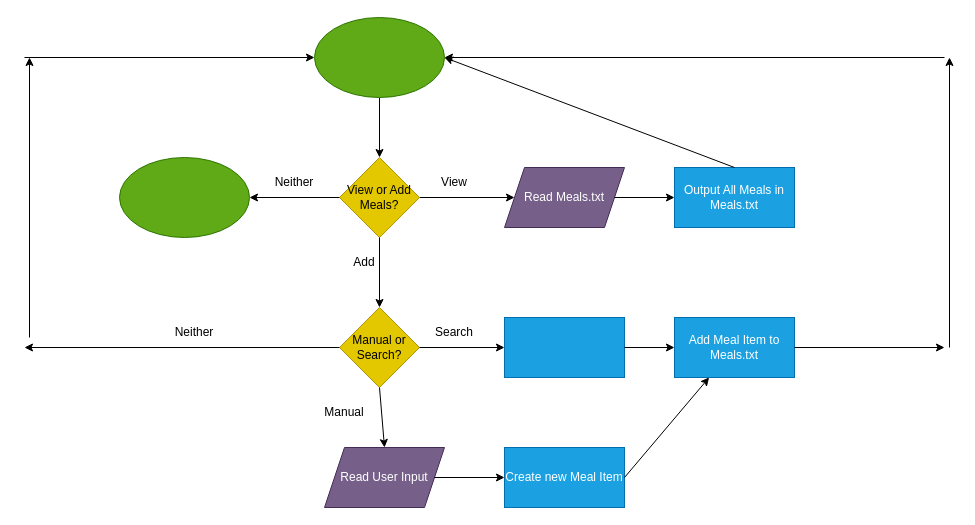
The diagram is 975 pixels wide and 525 high, and some of its shapes have lost their labels. Here are the shapes that lost their labels. From the top down, the centre of each, then its label:
At (379,57): "Start".
At (184,197): "End".
At (564,347): "Query Food Database API".
